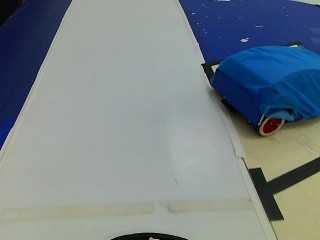car: (205, 44, 318, 136)
